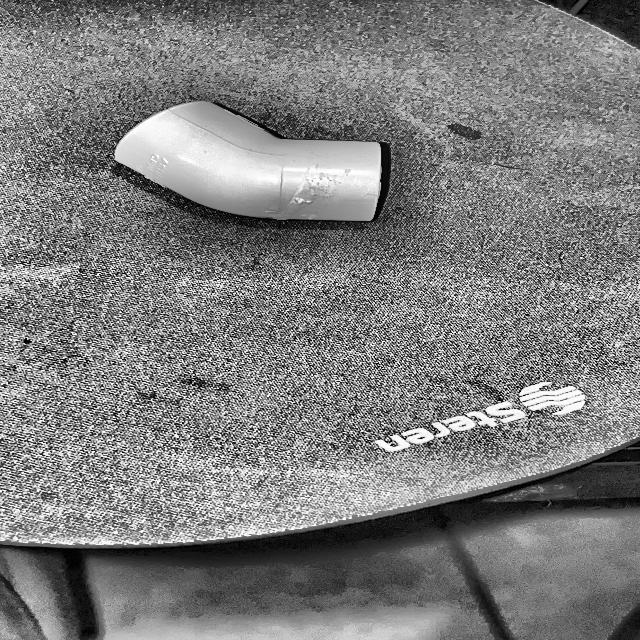ELBOW45: (113, 101, 391, 224)
